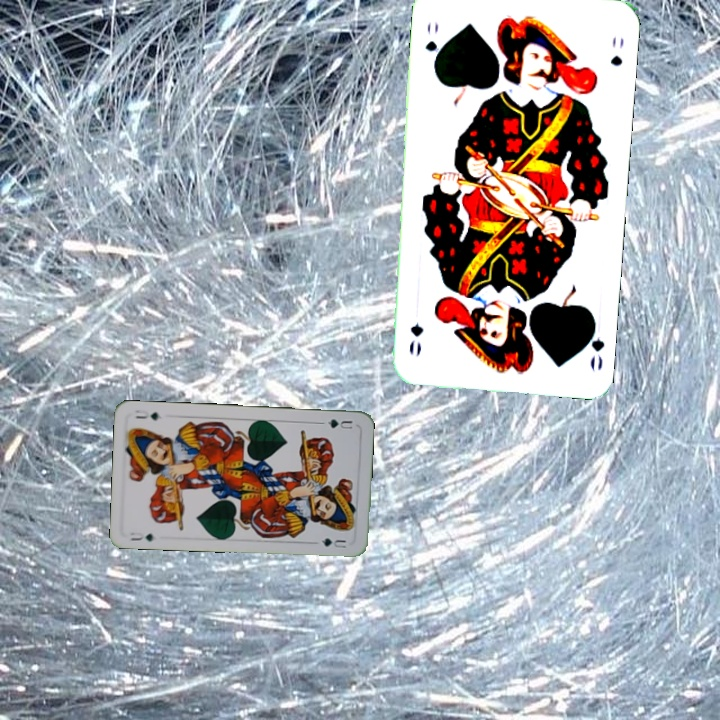GO: (580, 314, 607, 373), (421, 19, 443, 70)
GU: (323, 415, 355, 432), (126, 528, 156, 544)
